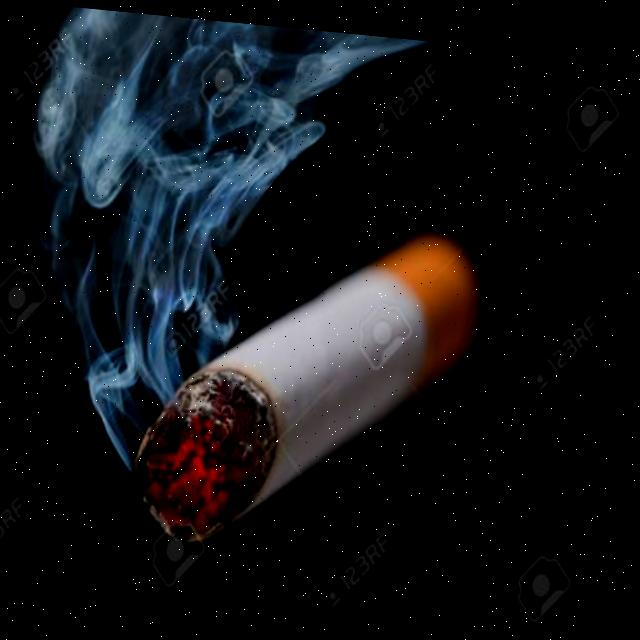cigarette: (137, 208, 499, 563)
